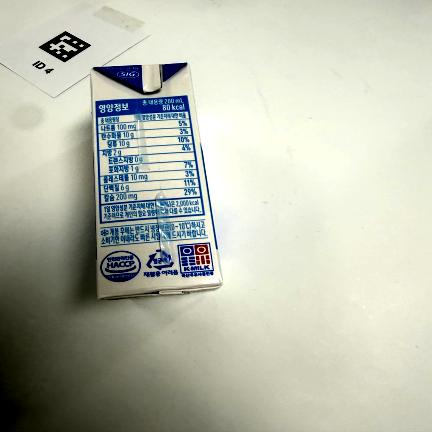milk_blue: (90, 64, 223, 300)
